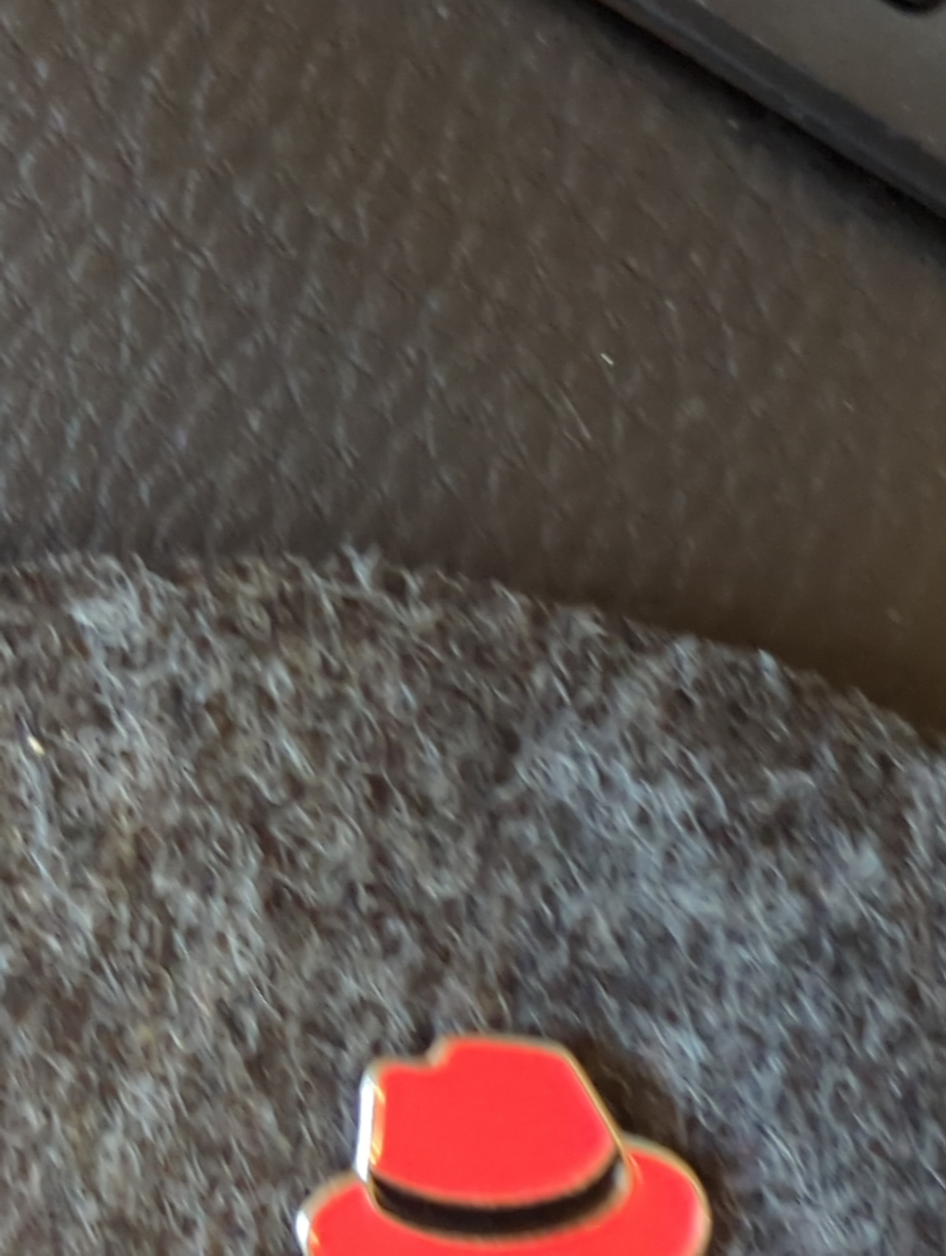Red-Hat: (200, 953, 839, 1256)
